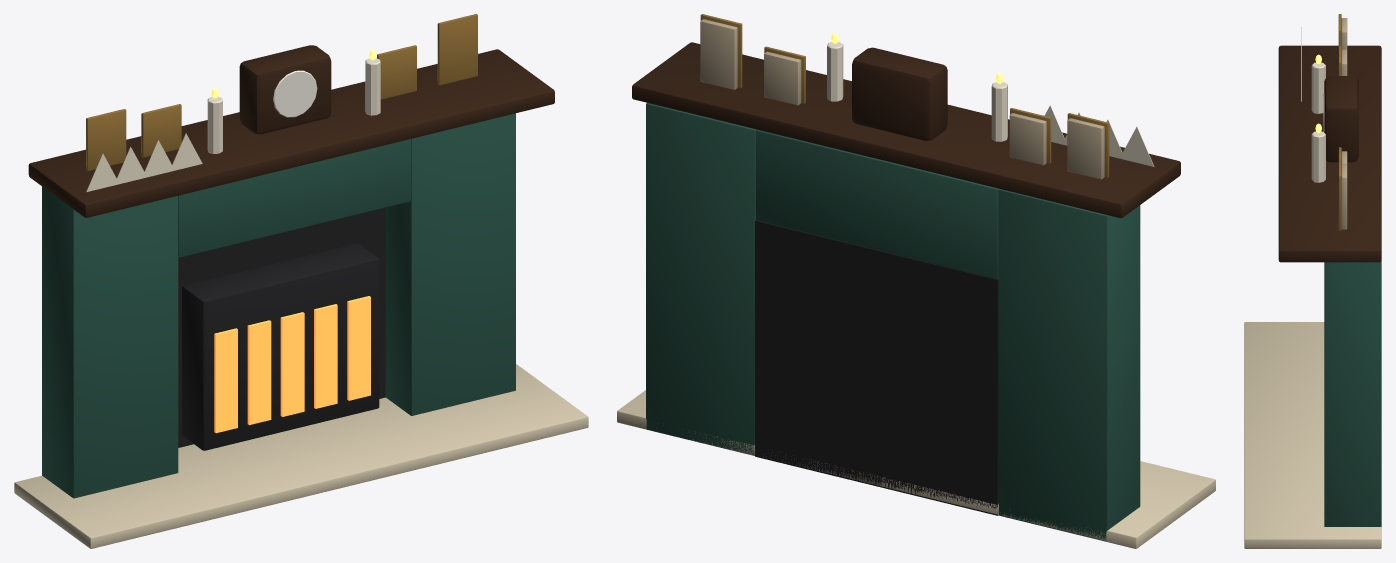
File: mae_fireplace.glb
The picture shows the model from 3 angles, left to right: view 1: azimuth 30°, elevation 25°; view 2: azimuth 150°, elevation 25°; view 3: azimuth 270°, elevation 25°; orthographic projection. The views are drawn at different scales.
Parts seen in each view (by area): view 1: mae_fireplace; view 2: mae_fireplace; view 3: mae_fireplace.
Part boxes in pixels (left/top/right/bottom): mae_fireplace: left=14, top=14, right=588, bottom=548; mae_fireplace: left=617, top=14, right=1215, bottom=548; mae_fireplace: left=1244, top=14, right=1381, bottom=548.
Size of the model in its own units: 1.8 by 1.35 by 0.48.
